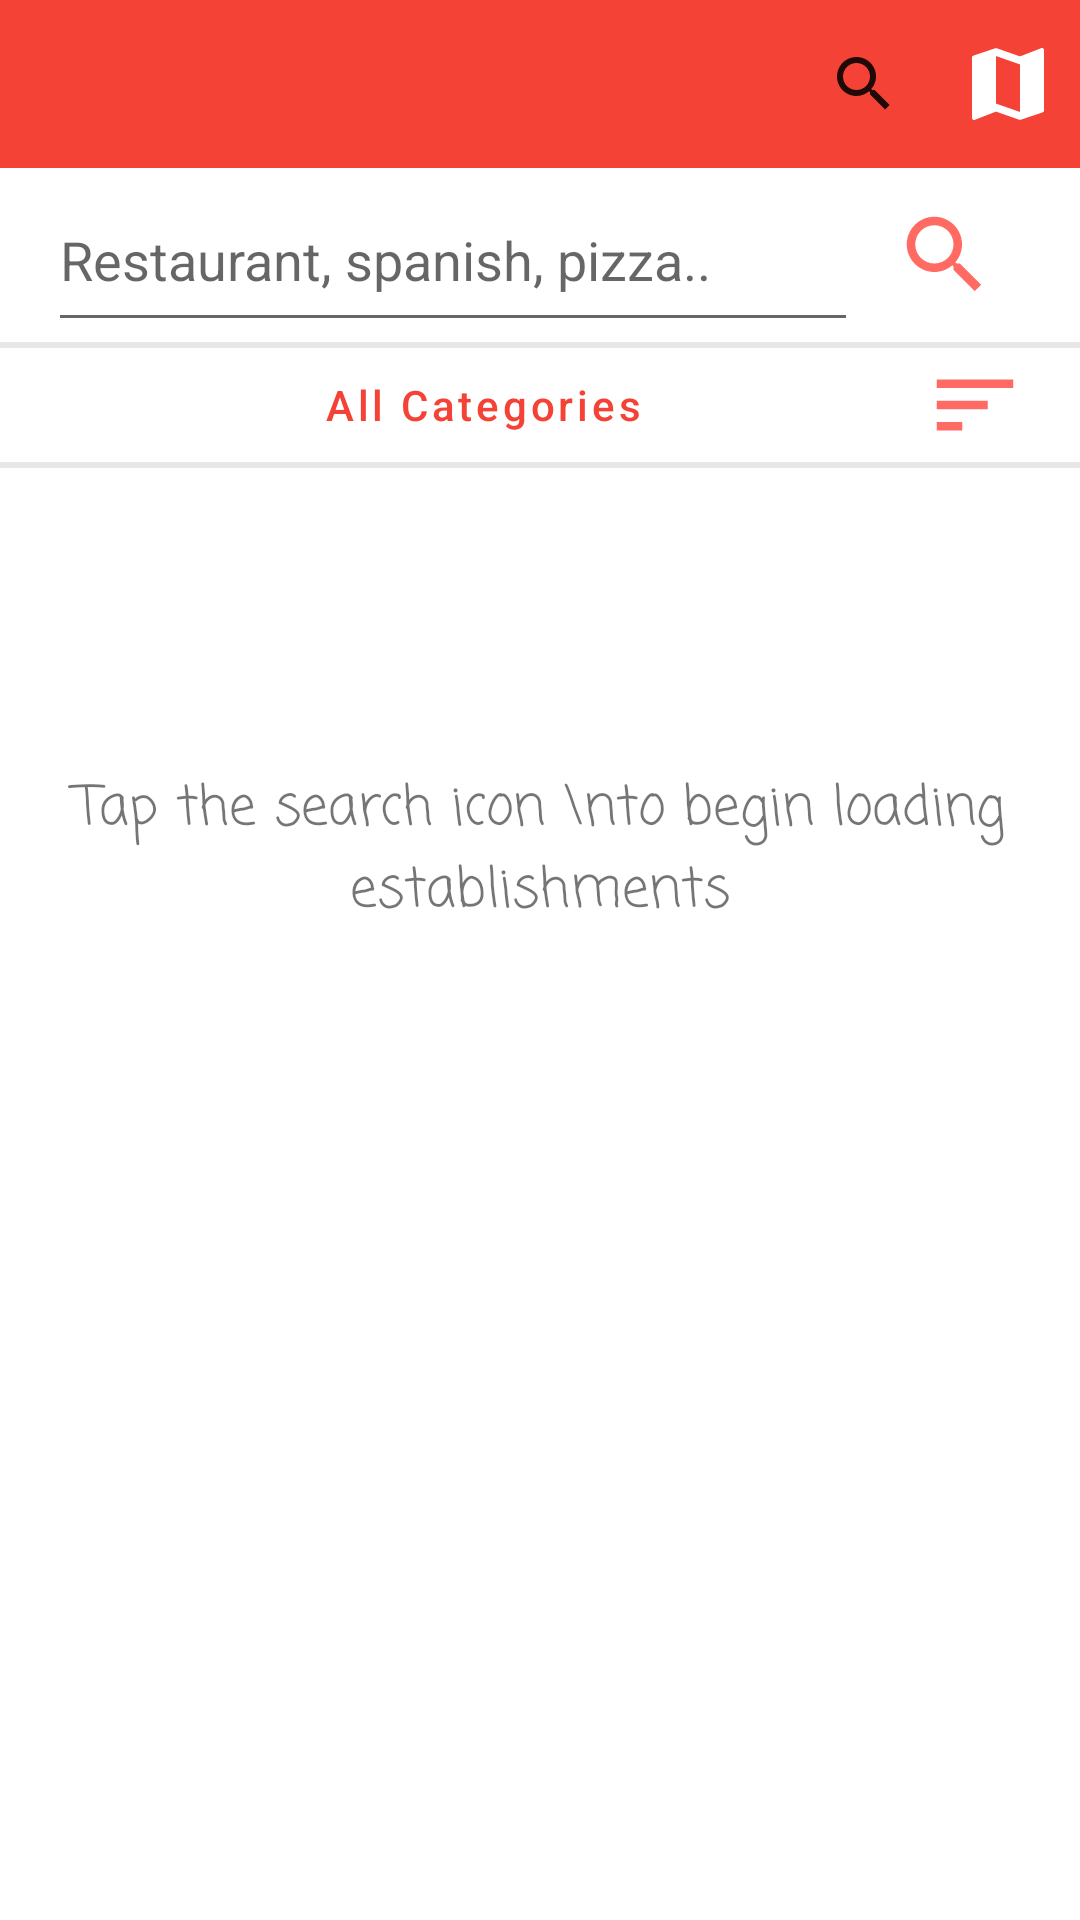

Named icons in this screenshot (1080 × 1920) and their bounding boxes, Rect(x1, y1, x2, y2):
sort by: Rect(936, 379, 1014, 431)
